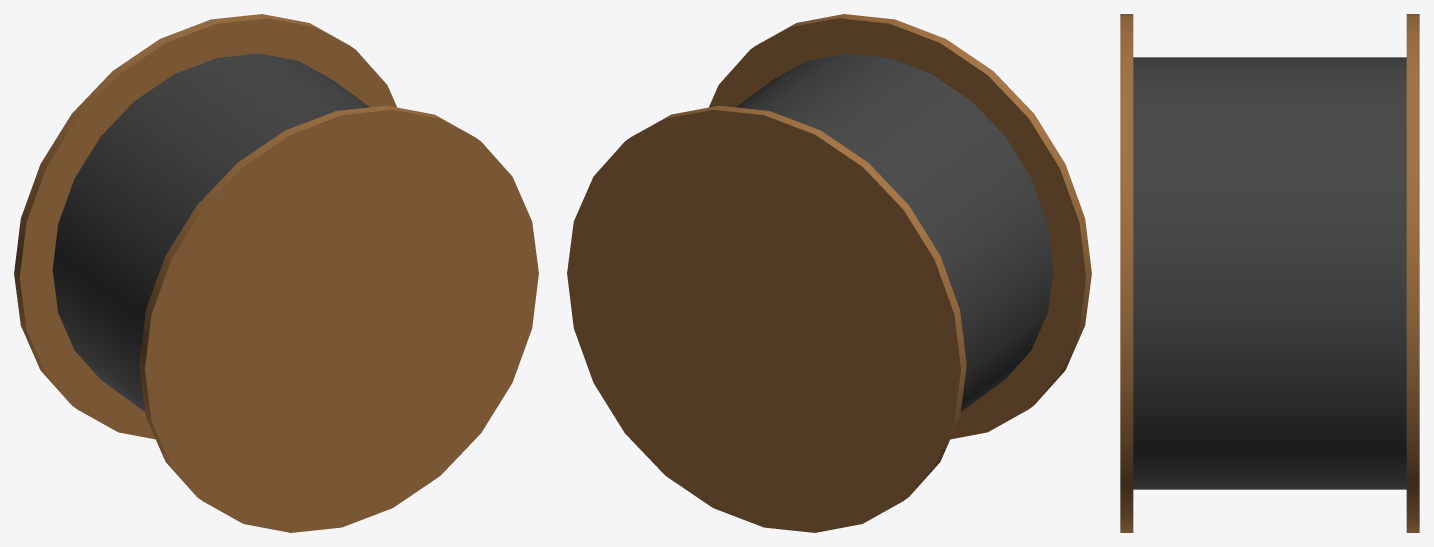
The model's file is cable_spool.dae.
3 renders of one model, left to right at view 1: azimuth 30°, elevation 25°; view 2: azimuth 150°, elevation 25°; view 3: azimuth 270°, elevation 25°, orthographic. The views are drawn at different scales.
Visible parts, largest first — view 1: coords_ME_ID3_MA___auto_2, coords_ME_ID11_MA___auto_, coords_ME_ID19_MA___auto_2; view 2: coords_ME_ID19_MA___auto_2, coords_ME_ID11_MA___auto_, coords_ME_ID3_MA___auto_2; view 3: coords_ME_ID11_MA___auto_, coords_ME_ID19_MA___auto_2, coords_ME_ID3_MA___auto_2.
Boxes of the visible parts, x1=… form: coords_ME_ID3_MA___auto_2: x1=139, y1=105, x2=538, y2=532; coords_ME_ID11_MA___auto_: x1=52, y1=53, x2=369, y2=411; coords_ME_ID19_MA___auto_2: x1=14, y1=14, x2=396, y2=439; coords_ME_ID19_MA___auto_2: x1=567, y1=105, x2=966, y2=532; coords_ME_ID11_MA___auto_: x1=736, y1=53, x2=1053, y2=411; coords_ME_ID3_MA___auto_2: x1=709, y1=14, x2=1091, y2=439; coords_ME_ID11_MA___auto_: x1=1133, y1=57, x2=1406, y2=489; coords_ME_ID19_MA___auto_2: x1=1406, y1=14, x2=1419, y2=532; coords_ME_ID3_MA___auto_2: x1=1120, y1=14, x2=1133, y2=532.
Bounding box in the file's own units: 24.37 × 24.37 × 14.01.
